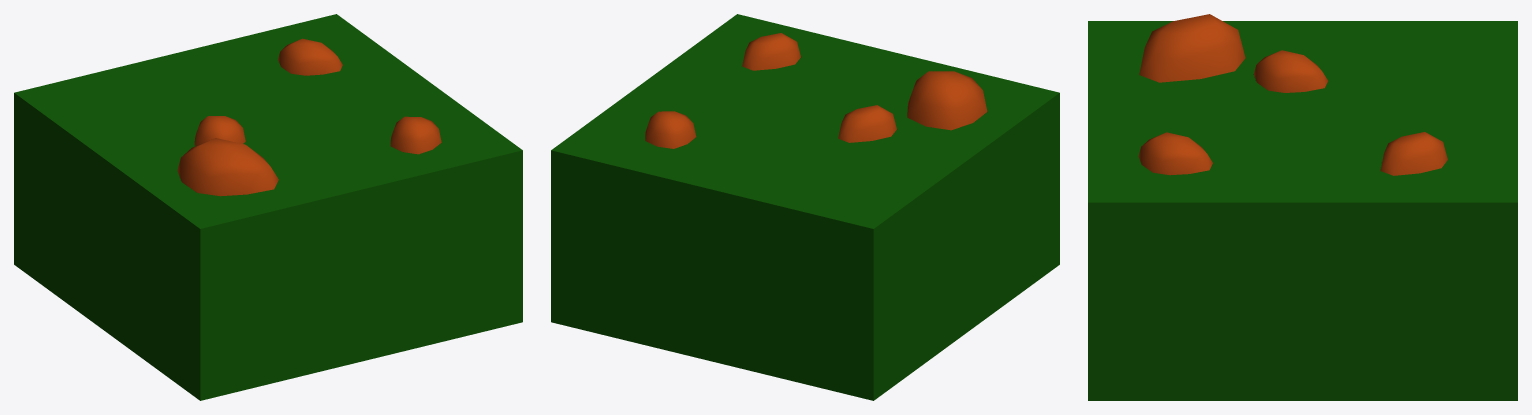
File: StepPlane.fbx
3 renders of one model, left to right at view 1: azimuth 30°, elevation 25°; view 2: azimuth 150°, elevation 25°; view 3: azimuth 270°, elevation 25°, orthographic. The views are drawn at different scales.
Parts seen in each view (by area): view 1: Plane.001; view 2: Plane.001; view 3: Plane.001.
Boxes of the visible parts, left/top/right/bottom form: Plane.001: left=14, top=14, right=522, bottom=400; Plane.001: left=551, top=14, right=1059, bottom=400; Plane.001: left=1088, top=14, right=1517, bottom=400.
Bounding box in the file's own units: 100 × 60.69 × 100.
Materials: 1 (1 with a texture image).
